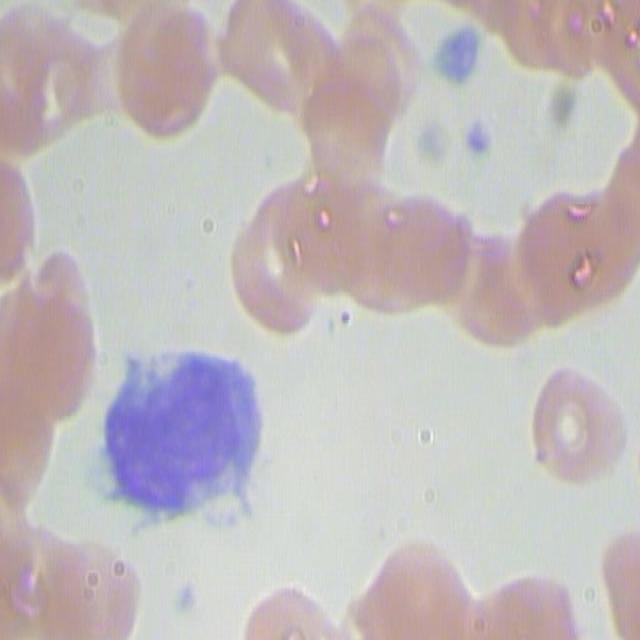RBC: (326, 213, 494, 336), (510, 184, 632, 338), (94, 0, 218, 140), (228, 178, 334, 340), (0, 246, 95, 426), (332, 10, 404, 244), (0, 545, 163, 639), (3, 0, 100, 156), (0, 418, 74, 614), (348, 533, 481, 638), (211, 0, 326, 118), (524, 361, 622, 490), (491, 0, 614, 81), (494, 554, 579, 640), (237, 576, 341, 640), (590, 0, 640, 112), (0, 157, 34, 297), (603, 519, 640, 637)
WBC: (95, 325, 275, 548)
platelets: (430, 11, 486, 96), (462, 114, 497, 166)
